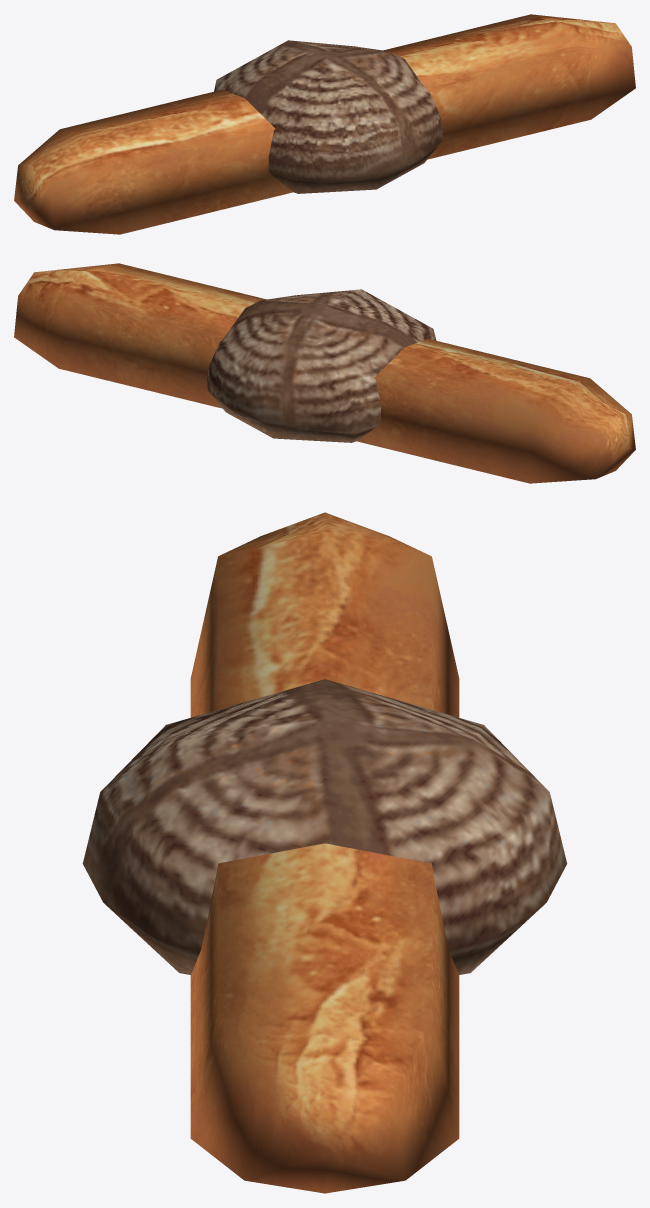
Rendered from bread.fbx.
The picture shows the model from 3 angles, top to bottom: view 1: azimuth 30°, elevation 25°; view 2: azimuth 150°, elevation 25°; view 3: azimuth 270°, elevation 25°; orthographic projection. The views are drawn at different scales.
Visible parts, largest first — view 1: bread_Mesh_001, bread_Mesh_002; view 2: bread_Mesh_001, bread_Mesh_002; view 3: bread_Mesh_001, bread_Mesh_002.
Part boxes in pixels (<box>): bread_Mesh_001: <box>14,14,635,234</box>; bread_Mesh_002: <box>214,40,442,193</box>; bread_Mesh_001: <box>14,263,635,483</box>; bread_Mesh_002: <box>207,289,436,442</box>; bread_Mesh_001: <box>190,512,459,1193</box>; bread_Mesh_002: <box>82,679,567,974</box>.
Bounding box in the file's own units: 52.12 × 7.83 × 18.03.
